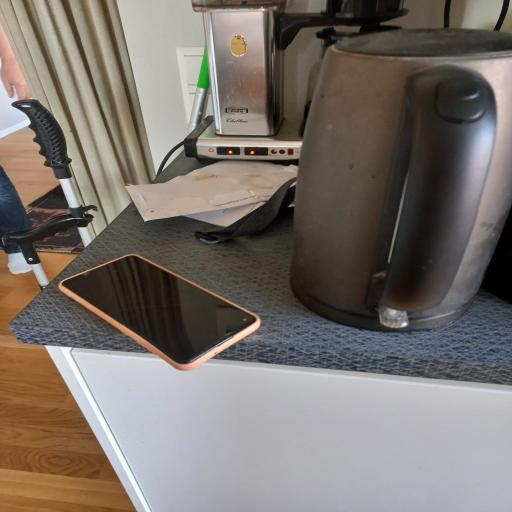phone: (59, 255, 259, 369)
